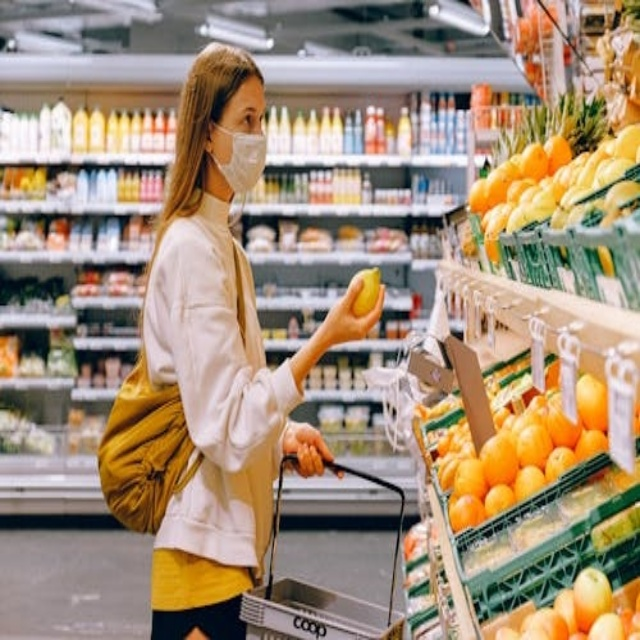Mascara: (205, 113, 270, 202)
Sin_gafas: (225, 104, 271, 133)
Sin_guantes: (323, 272, 385, 349), (281, 421, 331, 479)
